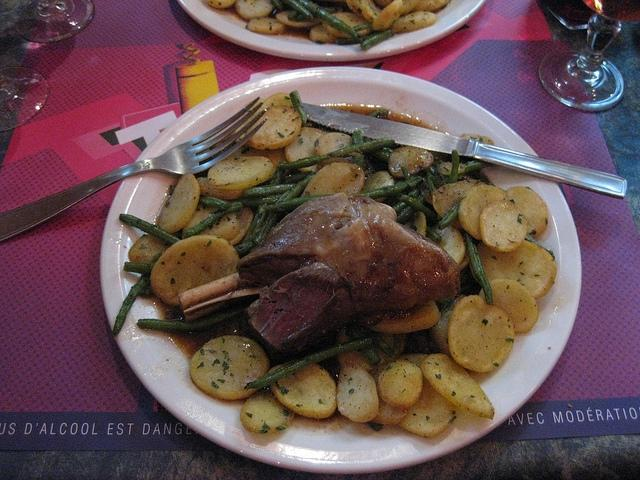green bean: (246, 336, 374, 389), (253, 174, 316, 244), (111, 252, 162, 336), (278, 137, 395, 170), (138, 303, 250, 333), (296, 0, 362, 44), (464, 232, 493, 304), (120, 214, 182, 246), (184, 205, 242, 237), (170, 185, 241, 210), (350, 176, 422, 199), (396, 194, 436, 228), (347, 326, 381, 366), (239, 203, 269, 245), (262, 194, 334, 210), (436, 196, 466, 230), (456, 160, 494, 183), (396, 194, 424, 225), (392, 188, 420, 215), (230, 193, 284, 207), (358, 28, 392, 50), (243, 184, 299, 196), (372, 333, 401, 356), (283, 1, 314, 22), (290, 90, 308, 125), (364, 148, 393, 165), (281, 170, 313, 184), (233, 241, 256, 260), (448, 149, 460, 184), (123, 262, 155, 274), (426, 225, 442, 244), (270, 0, 286, 12), (336, 38, 363, 45), (366, 420, 384, 430), (284, 169, 302, 178), (352, 24, 372, 32), (367, 110, 388, 117), (366, 160, 372, 170)
potato: (150, 234, 240, 308), (190, 335, 270, 402), (448, 296, 514, 372), (421, 354, 495, 419), (478, 240, 556, 299), (268, 362, 338, 419), (399, 372, 457, 438), (478, 278, 540, 334), (432, 179, 490, 229), (458, 184, 508, 240), (337, 358, 379, 422), (480, 199, 528, 253), (158, 174, 201, 234), (240, 388, 296, 434), (246, 106, 302, 150), (428, 294, 466, 358), (370, 300, 440, 334), (377, 359, 423, 410), (207, 156, 274, 190), (300, 162, 364, 197), (182, 204, 242, 241), (506, 186, 548, 238), (285, 128, 329, 172), (243, 92, 294, 126), (428, 224, 466, 266), (388, 145, 433, 179), (242, 147, 292, 176), (128, 234, 171, 264), (372, 394, 408, 426), (362, 170, 394, 202), (313, 132, 353, 157), (336, 351, 374, 371), (404, 210, 426, 236), (436, 162, 466, 175)
